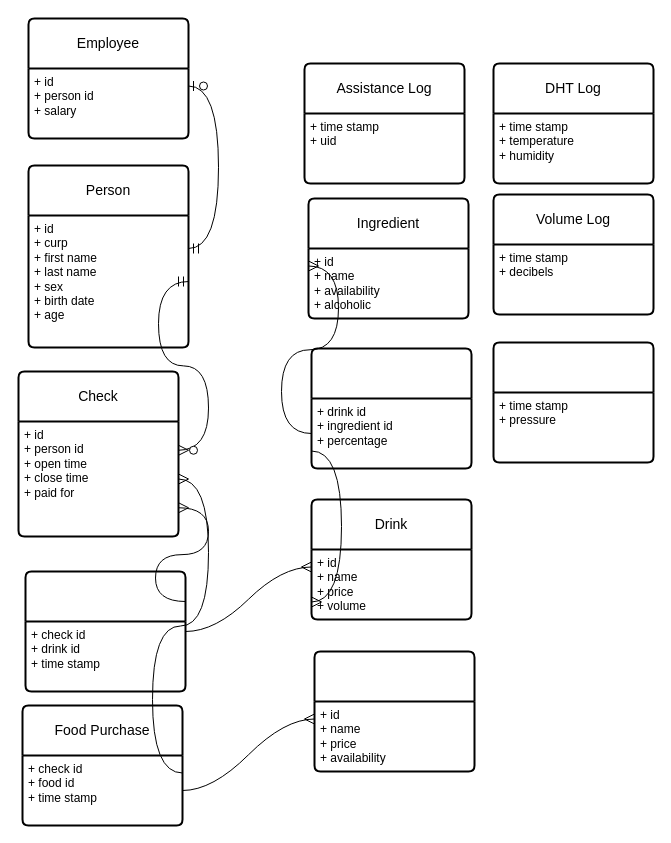
The diagram is 671 pixels wide and 843 high, and some of its shapes have lost their labels. Here are the shapes that lost their labels. From the top down, the box of each, then its label:
(310, 347, 472, 469): IngredientPerDrink
(492, 341, 654, 463): Pressure Log
(24, 570, 186, 692): Drink Purchase
(313, 650, 475, 772): Food
